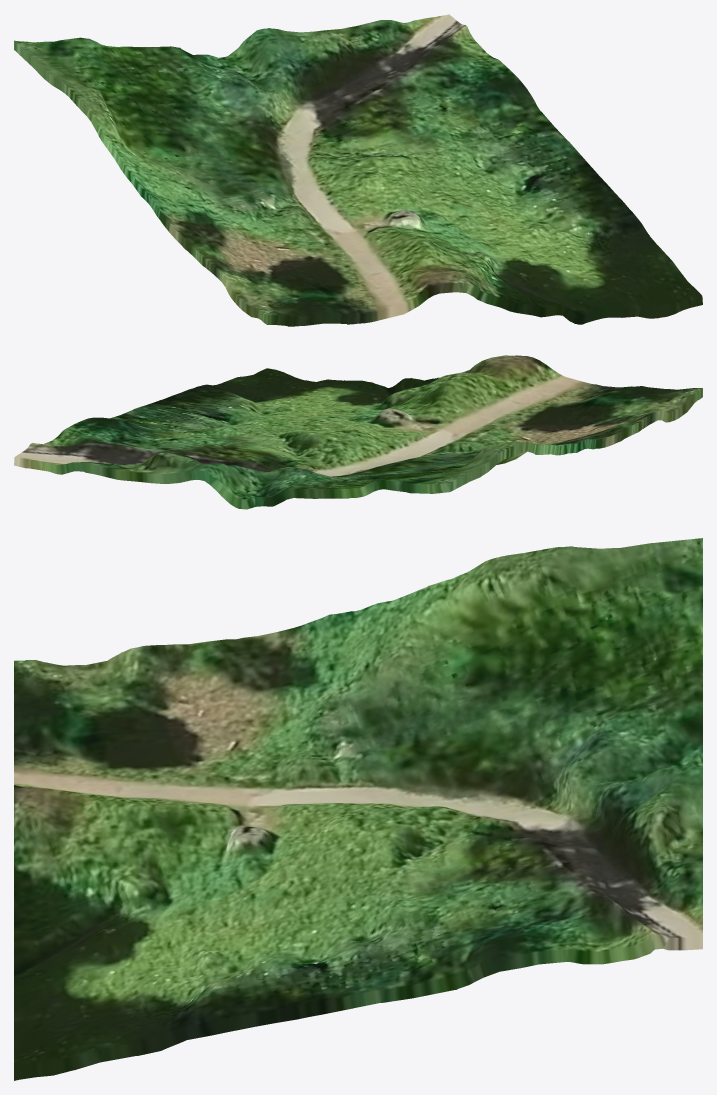
The model's file is z20-167561-405174-h0-yup-uvflip-v3-world.glb.
3 renders of one model, top to bottom at view 1: azimuth 30°, elevation 25°; view 2: azimuth 150°, elevation 25°; view 3: azimuth 270°, elevation 25°, orthographic. The views are drawn at different scales.
Bounding box in the file's own units: 30.2 × 12.48 × 30.32.
1 material, 1 textured.
